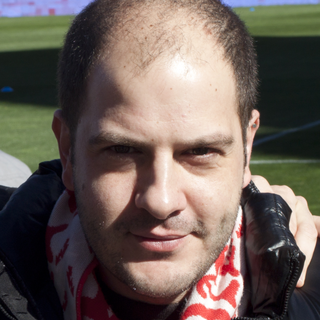eye: (176, 142, 226, 165), (97, 139, 145, 160)
